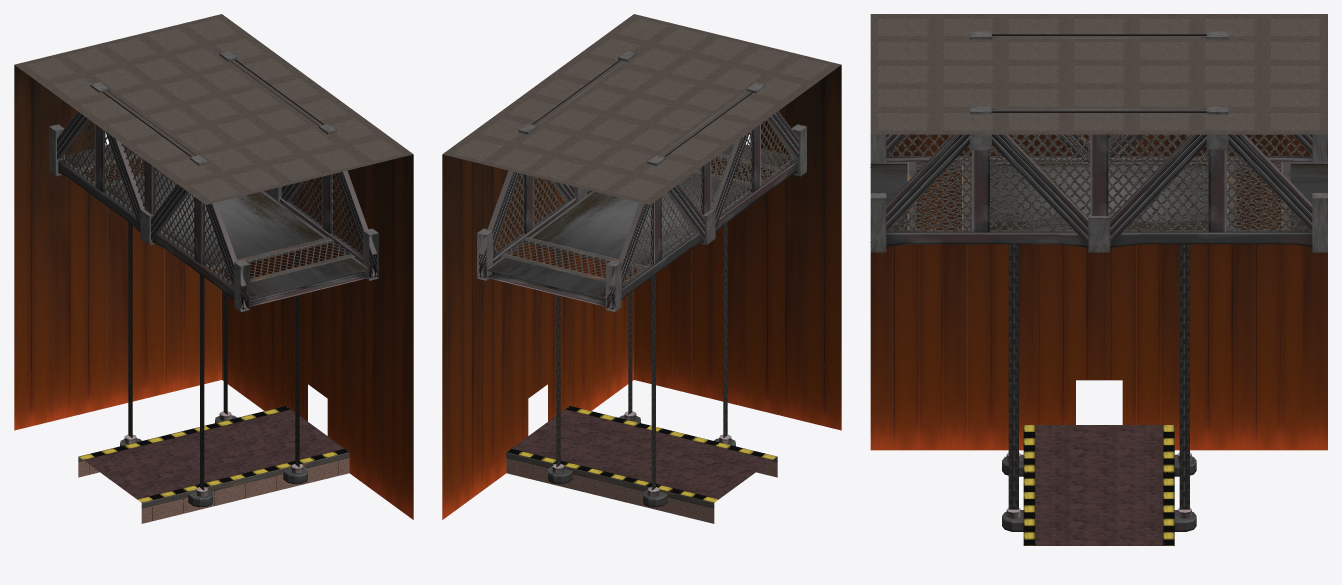
File: molten_bridge_lavapit.fbx
3 views of the same model, side by side, from view 1: azimuth 30°, elevation 25°; view 2: azimuth 150°, elevation 25°; view 3: azimuth 270°, elevation 25° (orthographic). The views are drawn at different scales.
Visible parts, largest first — view 1: Walls, BridgeSupports, Floor, BridgePath, Chain Supports, Chains.003, Chains.002, Chains.001, Chains; view 2: Walls, BridgeSupports, Floor, BridgePath, Chain Supports, Chains.002, Chains.003, Chains, Chains.001; view 3: Walls, BridgeSupports, Floor, BridgePath, Chains, Chains.001, Chain Supports.
Part boxes in pixels (bbox=[...]): Walls: bbox=[14, 14, 413, 519]; BridgeSupports: bbox=[49, 51, 378, 311]; Floor: bbox=[78, 406, 349, 523]; BridgePath: bbox=[65, 145, 372, 300]; Chain Supports: bbox=[120, 411, 307, 507]; Chains.003: bbox=[200, 274, 204, 490]; Chains.002: bbox=[128, 222, 132, 437]; Chains.001: bbox=[295, 251, 299, 467]; Chains: bbox=[223, 268, 227, 414]; Walls: bbox=[442, 14, 841, 519]; BridgeSupports: bbox=[477, 51, 806, 311]; Floor: bbox=[506, 406, 777, 523]; BridgePath: bbox=[483, 144, 790, 300]; Chain Supports: bbox=[548, 411, 735, 507]; Chains.002: bbox=[651, 274, 655, 490]; Chains.003: bbox=[723, 222, 727, 437]; Chains: bbox=[556, 251, 560, 467]; Chains.001: bbox=[628, 268, 632, 414]; Walls: bbox=[870, 14, 1327, 450]; BridgeSupports: bbox=[870, 31, 1327, 252]; Floor: bbox=[1023, 425, 1174, 545]; BridgePath: bbox=[870, 161, 1327, 229]; Chains: bbox=[1179, 244, 1189, 509]; Chains.001: bbox=[1008, 244, 1018, 509]; Chain Supports: bbox=[1002, 452, 1196, 531].
Size of the model in its own units: 2600 by 4403 by 4164.
